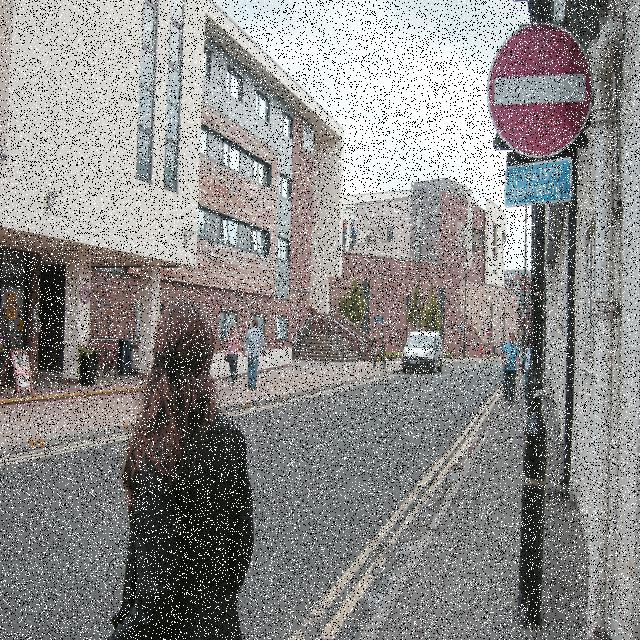no entry: (484, 15, 592, 158)
